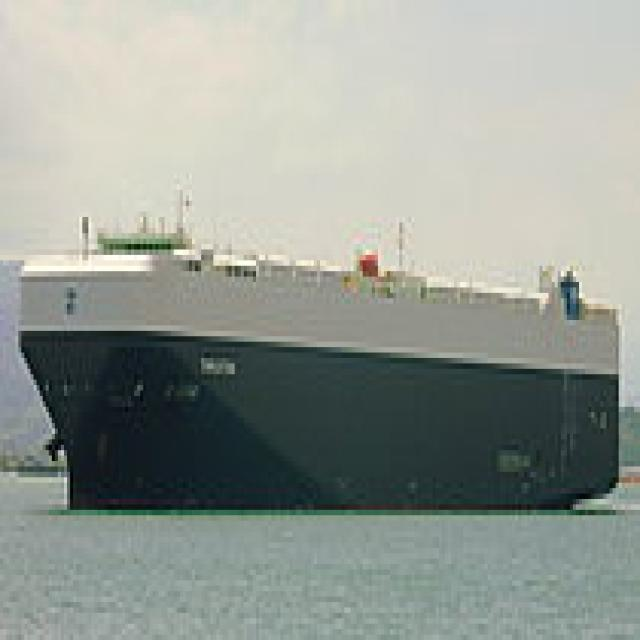Carrier: (9, 179, 619, 510)
